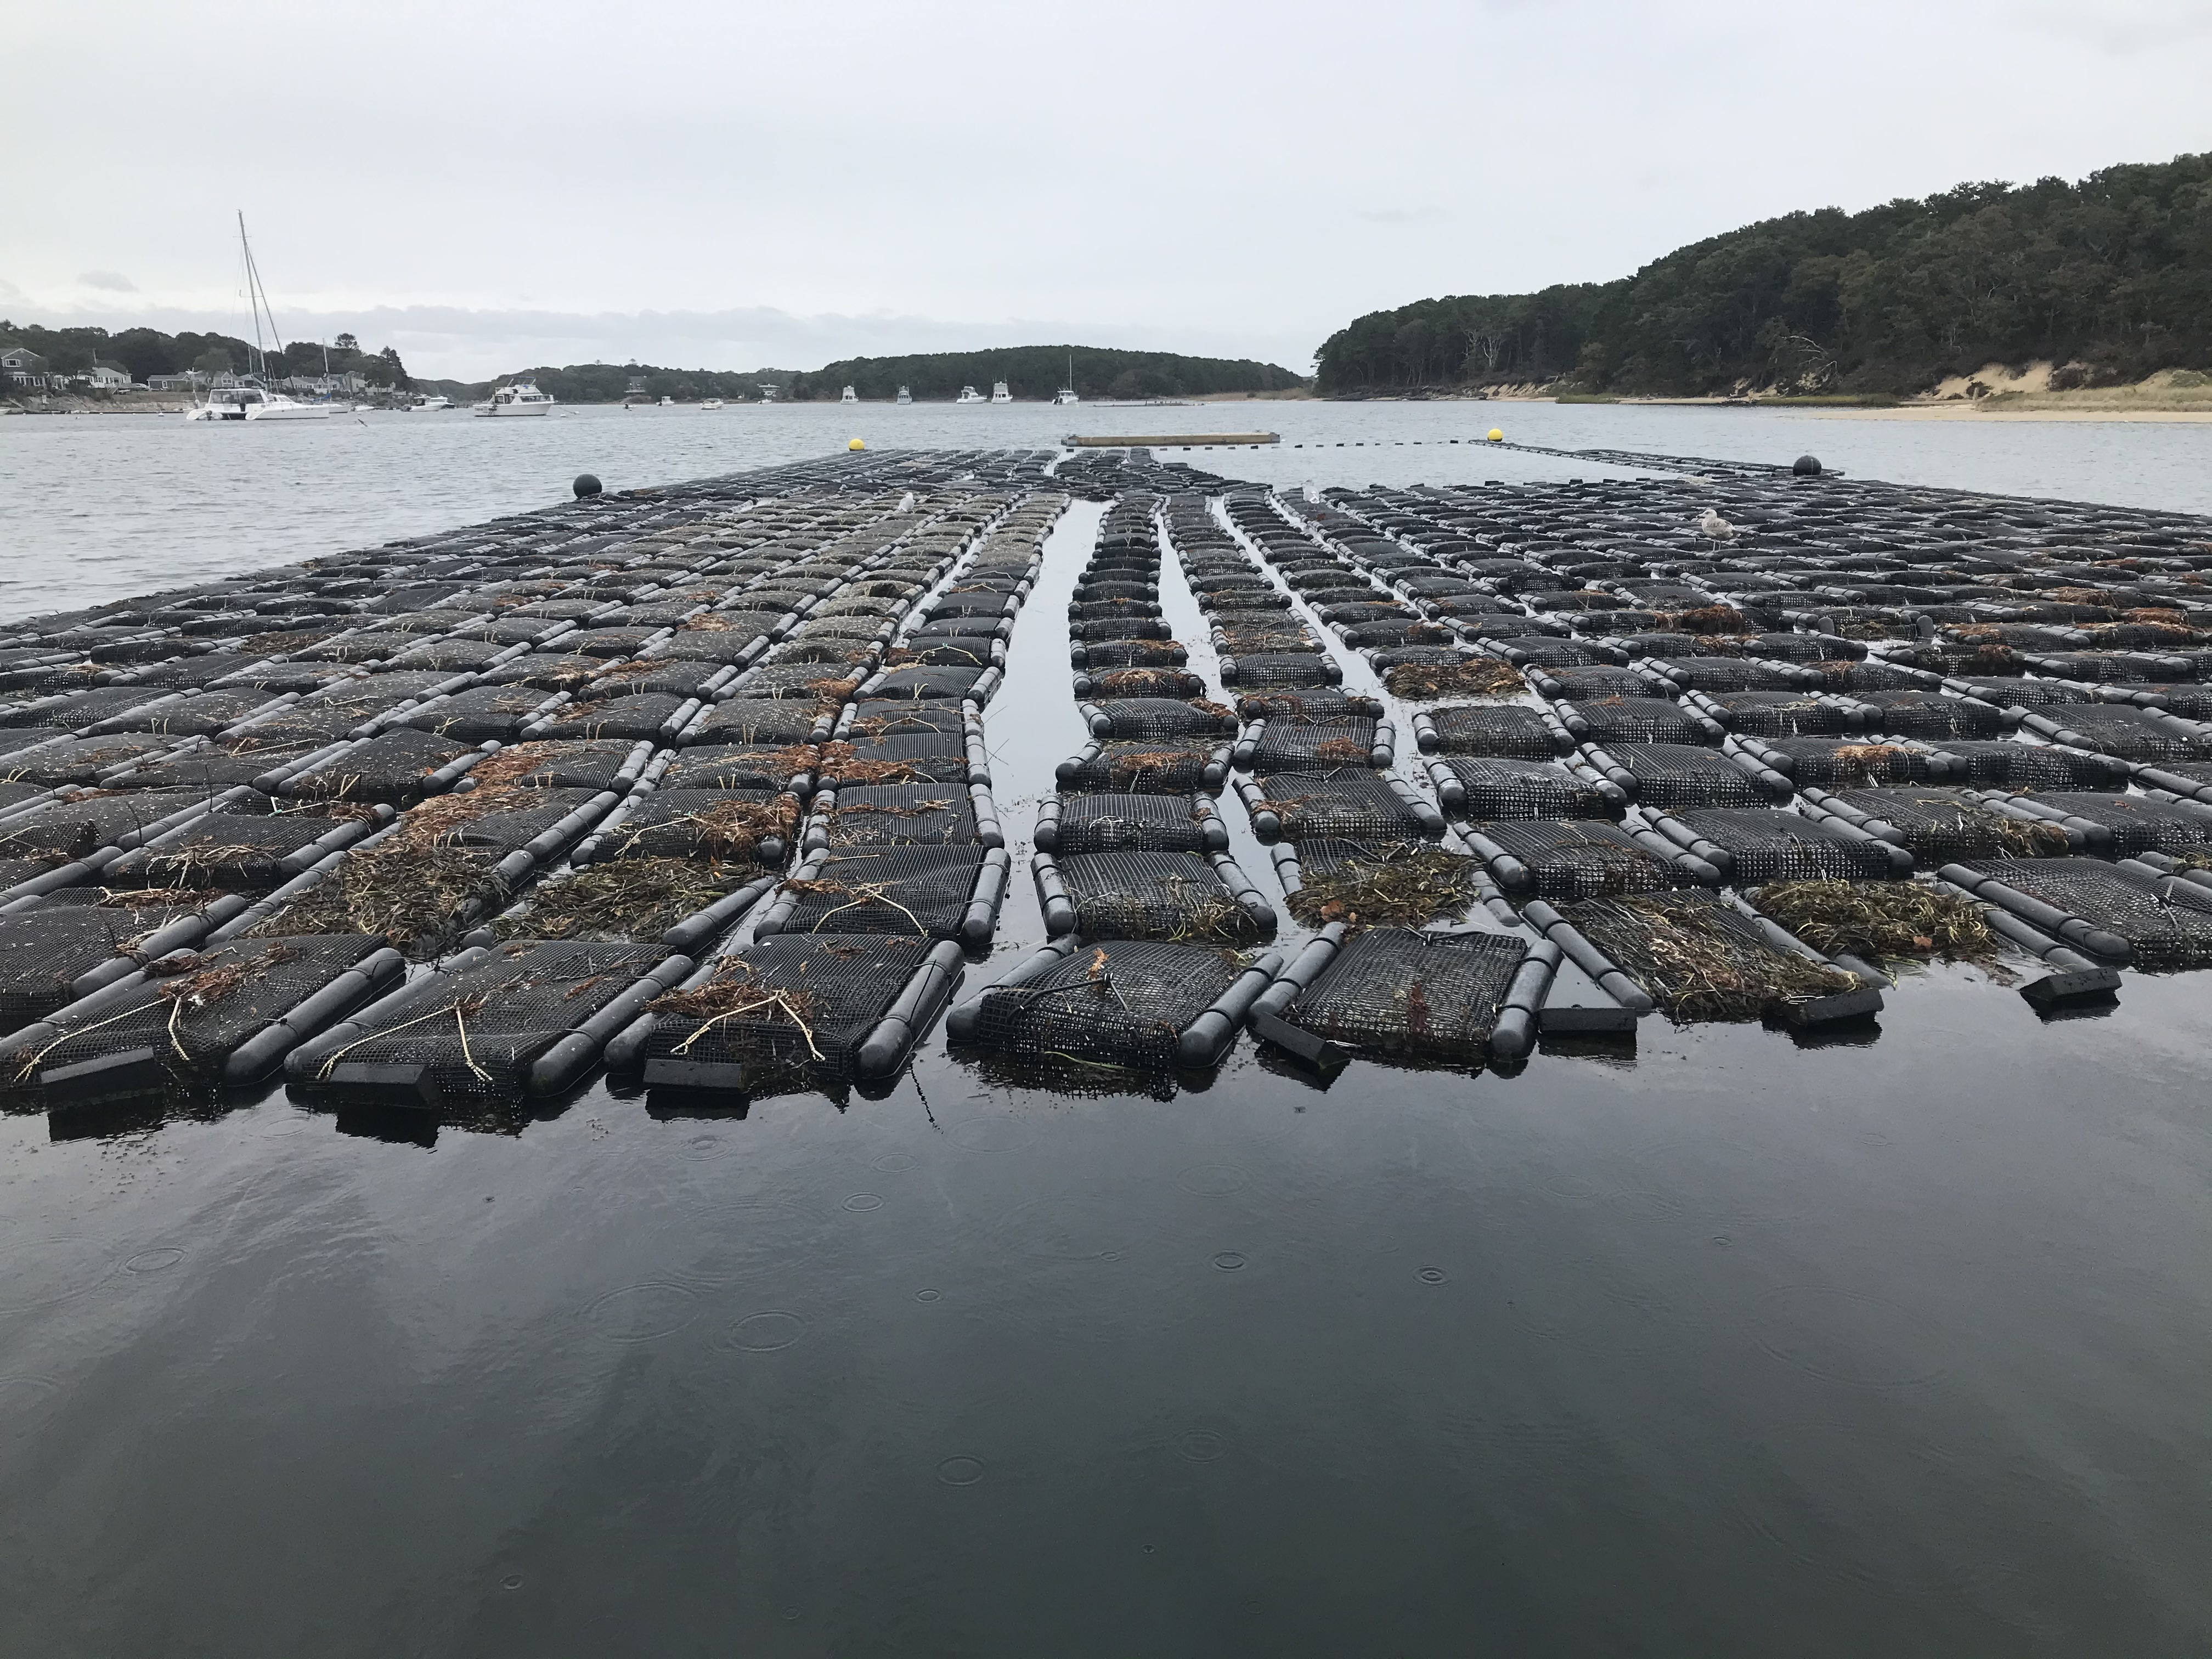bag: (0, 927, 374, 1126), (282, 934, 678, 1115), (601, 927, 961, 1110), (1256, 918, 1564, 1082), (948, 936, 1277, 1080), (1777, 868, 2057, 1023), (1564, 889, 1881, 1019), (1268, 826, 1500, 927), (1028, 845, 1275, 939), (1031, 781, 1233, 854)
